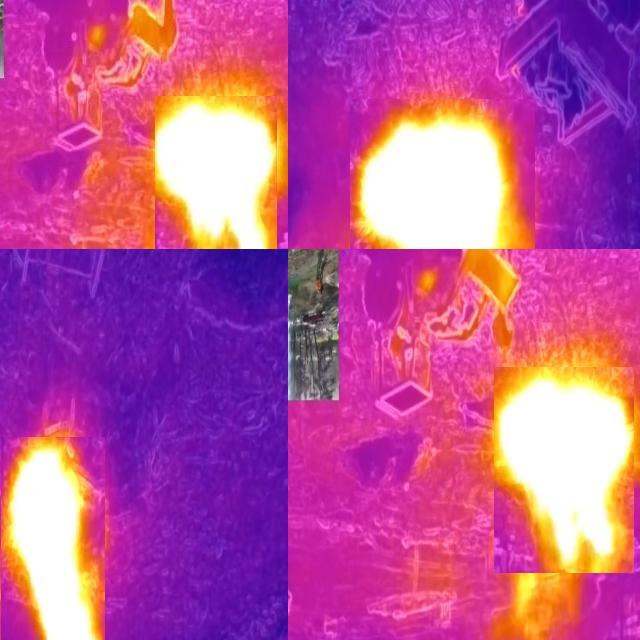fire: (494, 367, 634, 573), (350, 99, 535, 250), (1, 437, 105, 640), (155, 96, 277, 250)
